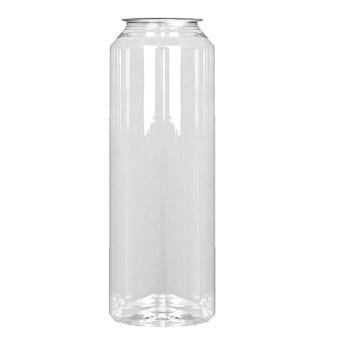paper: (106, 16, 212, 328)
